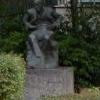Statue: (17, 2, 81, 72)
